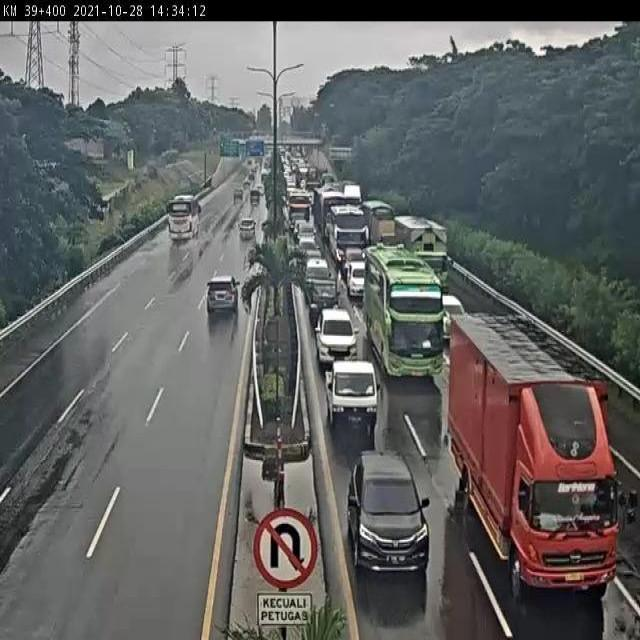bus-l-: (365, 245, 445, 375), (330, 204, 366, 261), (168, 193, 202, 240)
car: (345, 438, 425, 562), (324, 355, 380, 420), (315, 303, 358, 365), (308, 275, 340, 309), (344, 258, 369, 294), (297, 234, 317, 258)
truck-l-: (449, 314, 618, 594), (392, 218, 453, 294)
